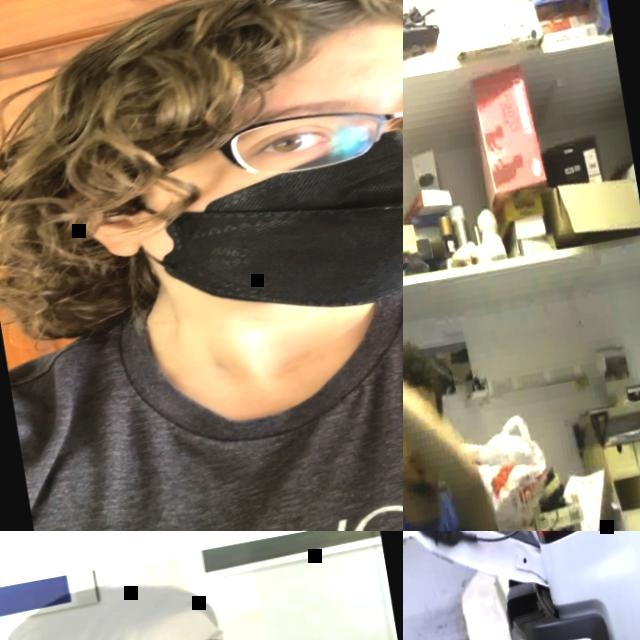Mask: (107, 117, 403, 349)
NO-Hardhat: (34, 0, 403, 138), (14, 569, 212, 640), (403, 335, 442, 408)
NO-Mask: (403, 446, 444, 498)
NO-Safety Vest: (2, 233, 403, 531), (403, 491, 495, 531)
Person: (0, 0, 403, 531), (403, 262, 513, 531), (0, 558, 310, 640)
vehicle: (403, 531, 640, 640)
